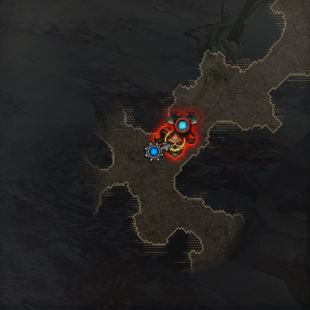Guardian: (152, 124, 198, 160)
